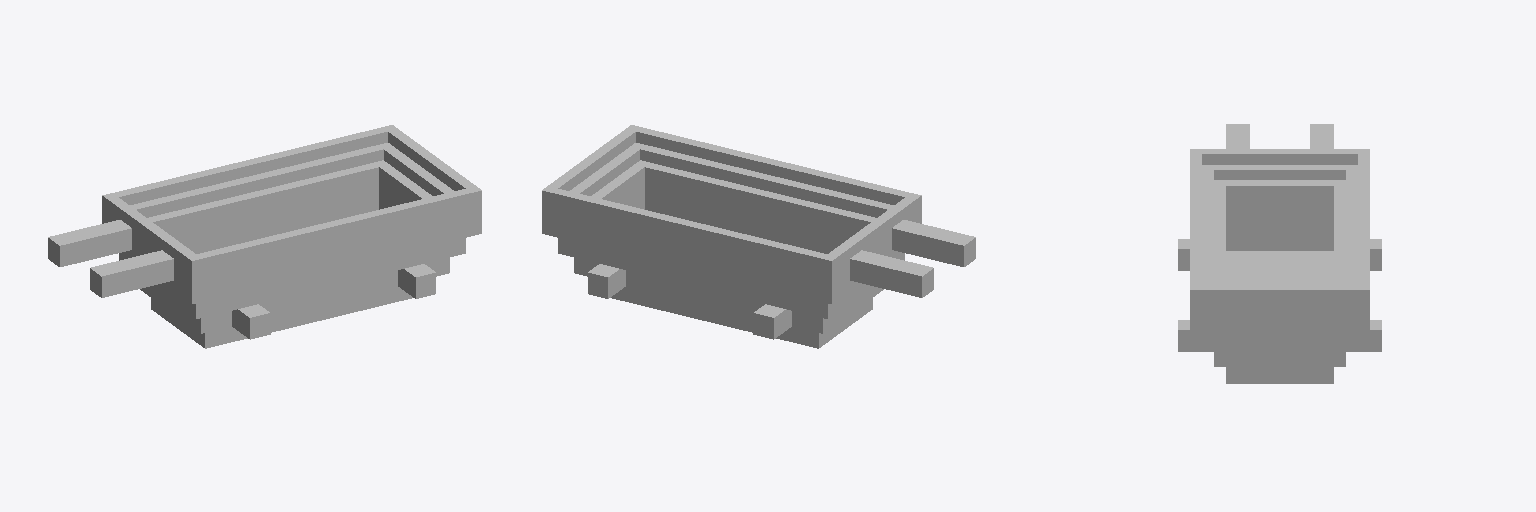
Rendered from carrinho.obj.
3 renders of one model, left to right at view 1: azimuth 30°, elevation 25°; view 2: azimuth 150°, elevation 25°; view 3: azimuth 270°, elevation 25°, orthographic.
Visible parts, largest first — view 1: carrinho; view 2: carrinho; view 3: carrinho.
Boxes of the visible parts, x1=… form: carrinho: x1=48, y1=125, x2=481, y2=348; carrinho: x1=542, y1=125, x2=975, y2=348; carrinho: x1=1178, y1=124, x2=1381, y2=383.
Bounding box in the file's own units: 35 × 10 × 17.